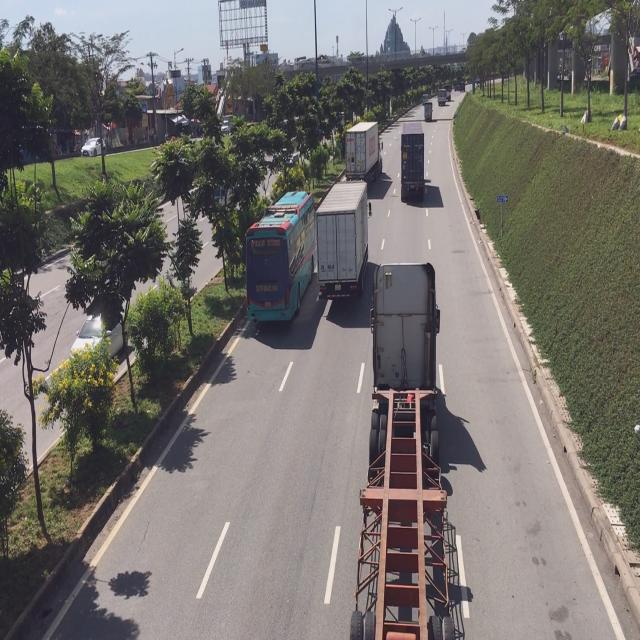truck: (350, 259, 458, 640), (246, 186, 316, 334), (317, 179, 370, 308), (345, 121, 382, 184), (400, 121, 425, 207)
